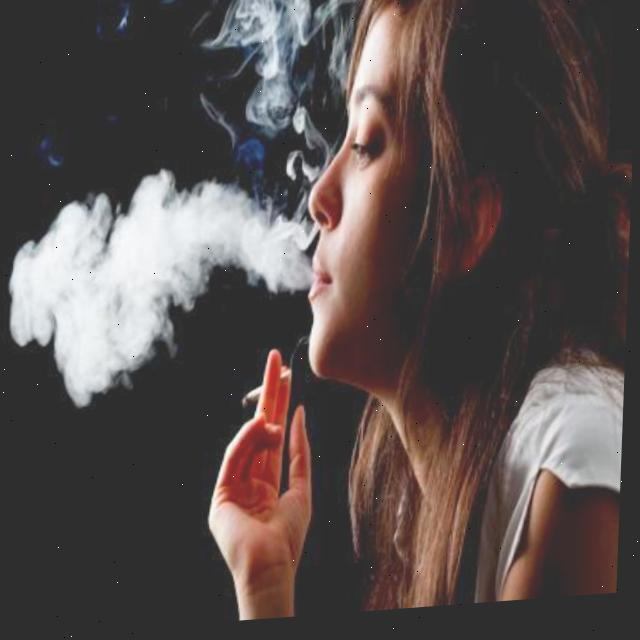cigarette: (244, 372, 296, 415)
